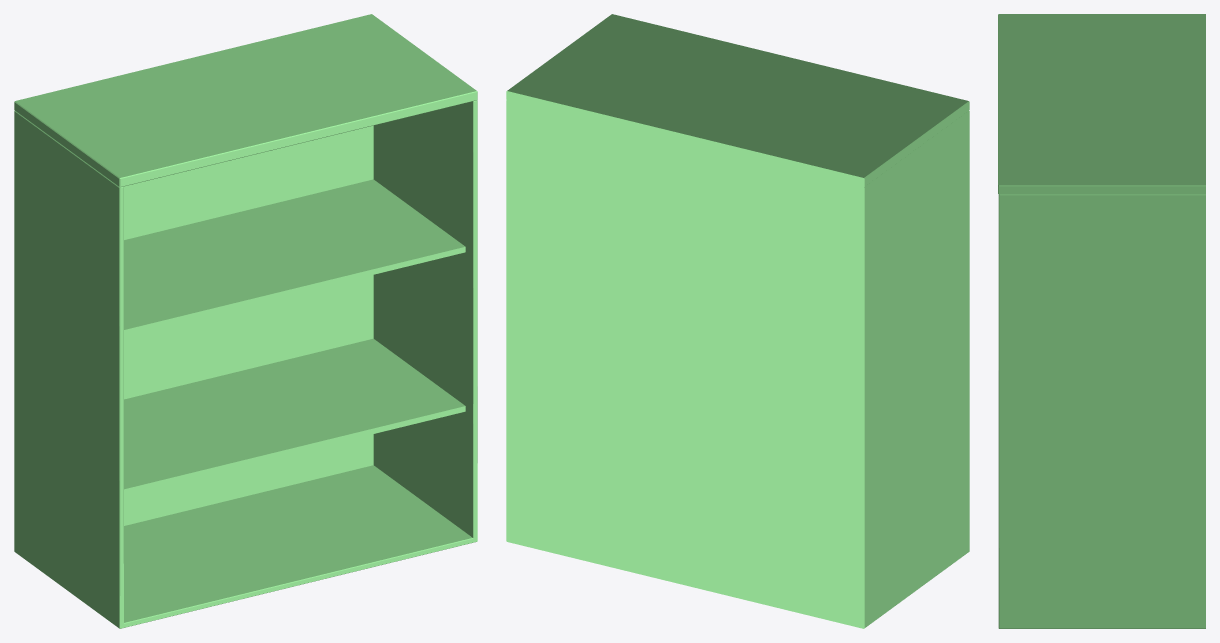
Rendered from RFAIPP_Kitchen_Cabinet_Up.FBX.
3 renders of one model, left to right at view 1: azimuth 30°, elevation 25°; view 2: azimuth 150°, elevation 25°; view 3: azimuth 270°, elevation 25°, orthographic.
Visible parts, largest first — view 1: RFAIPP_Kitchen_Cabinet_Up; view 2: RFAIPP_Kitchen_Cabinet_Up; view 3: RFAIPP_Kitchen_Cabinet_Up.
Boxes of the visible parts, x1,y1,x2,y2 form: RFAIPP_Kitchen_Cabinet_Up: (14,14,477,628); RFAIPP_Kitchen_Cabinet_Up: (506,14,969,628); RFAIPP_Kitchen_Cabinet_Up: (998,14,1205,628).
Size of the model in its own units: 0.5998 by 0.7213 by 0.306.
